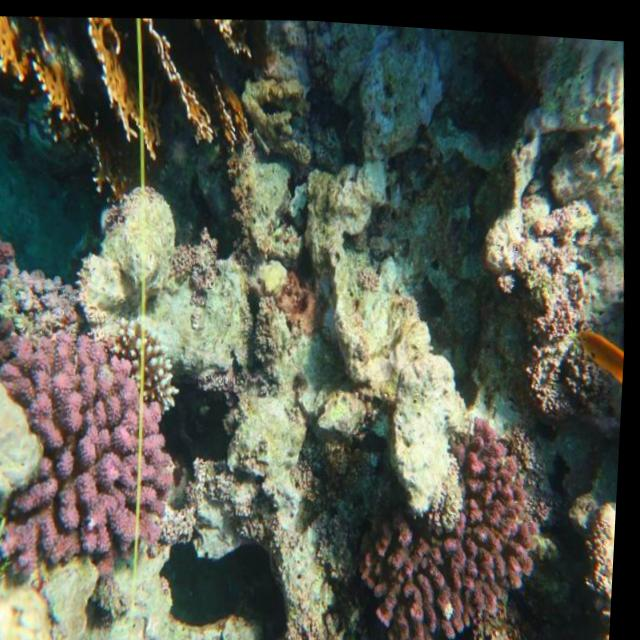Bleached Coral: (144, 326, 186, 410), (109, 315, 147, 381)
Healthy Coral: (356, 403, 554, 640), (0, 330, 189, 575), (0, 3, 267, 165), (0, 223, 29, 371)
